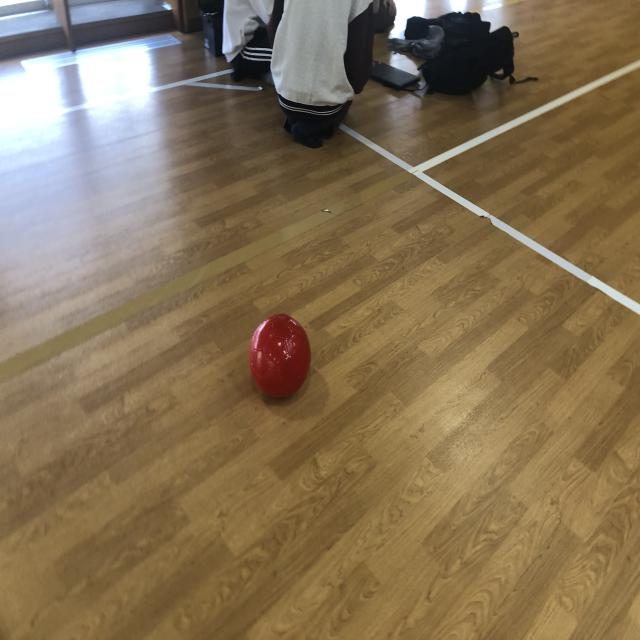red_ball: (248, 314, 312, 402)
